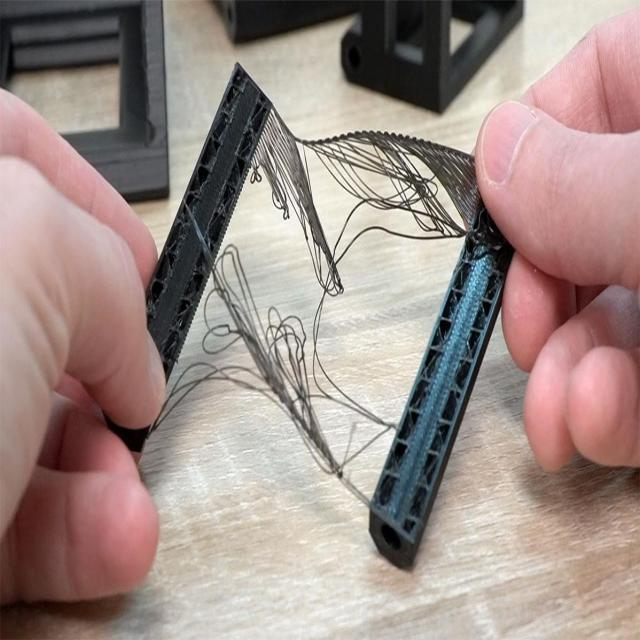Spaghetti: (156, 82, 400, 516), (308, 81, 502, 272)
